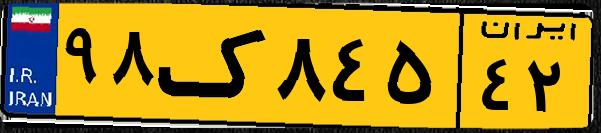2: (525, 38, 570, 115)
4: (330, 28, 385, 110), (475, 38, 525, 113)
5: (385, 28, 445, 110)
8: (270, 28, 330, 110), (110, 28, 158, 98)
9: (57, 26, 110, 100)
ک: (158, 12, 270, 120)
